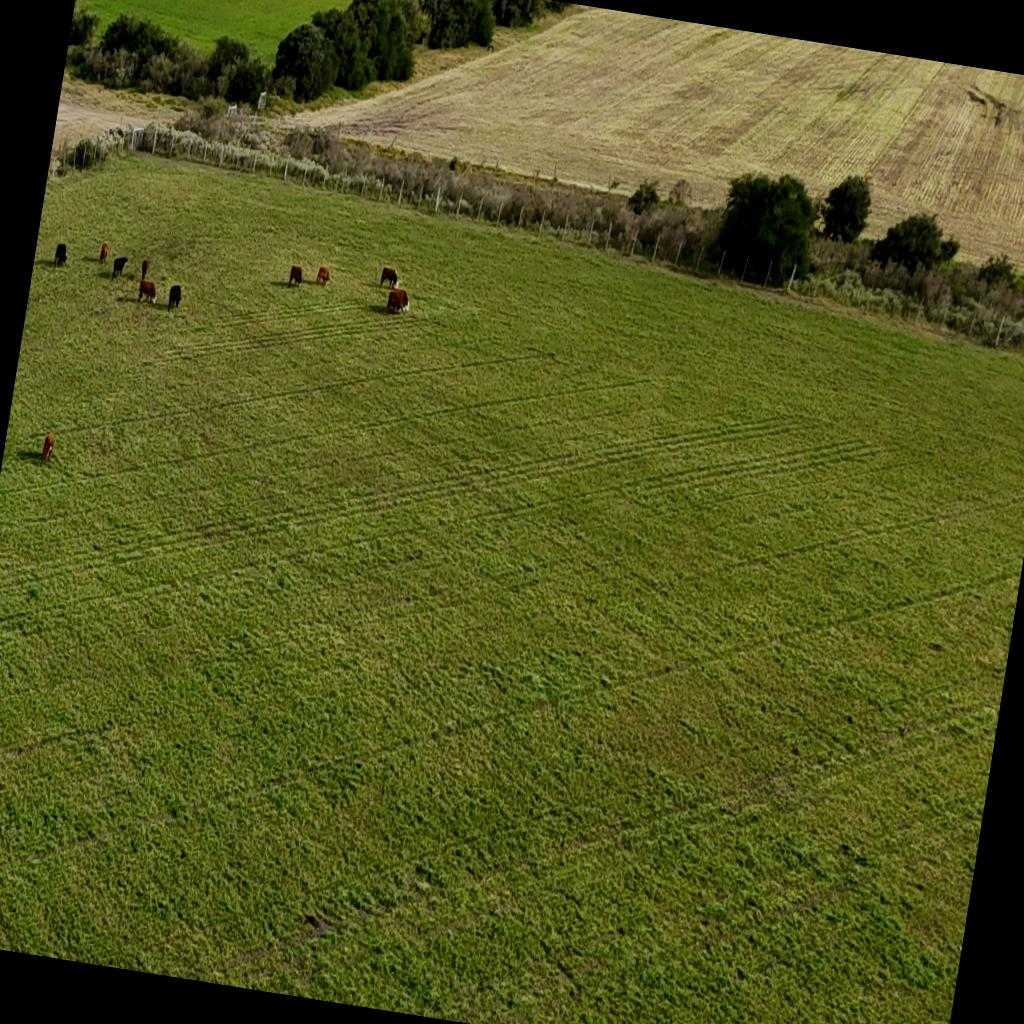cow: (387, 284, 413, 315), (136, 278, 159, 306), (50, 240, 70, 272), (39, 430, 55, 466), (378, 266, 400, 290), (166, 282, 183, 312), (110, 254, 128, 277), (314, 264, 331, 287), (287, 264, 303, 288), (98, 242, 110, 264), (139, 258, 150, 282)
